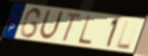1: (105, 17, 122, 49)
G: (18, 6, 43, 39)
L: (76, 14, 92, 47), (115, 19, 131, 51)
T: (60, 11, 83, 43)
U: (37, 8, 66, 41)
